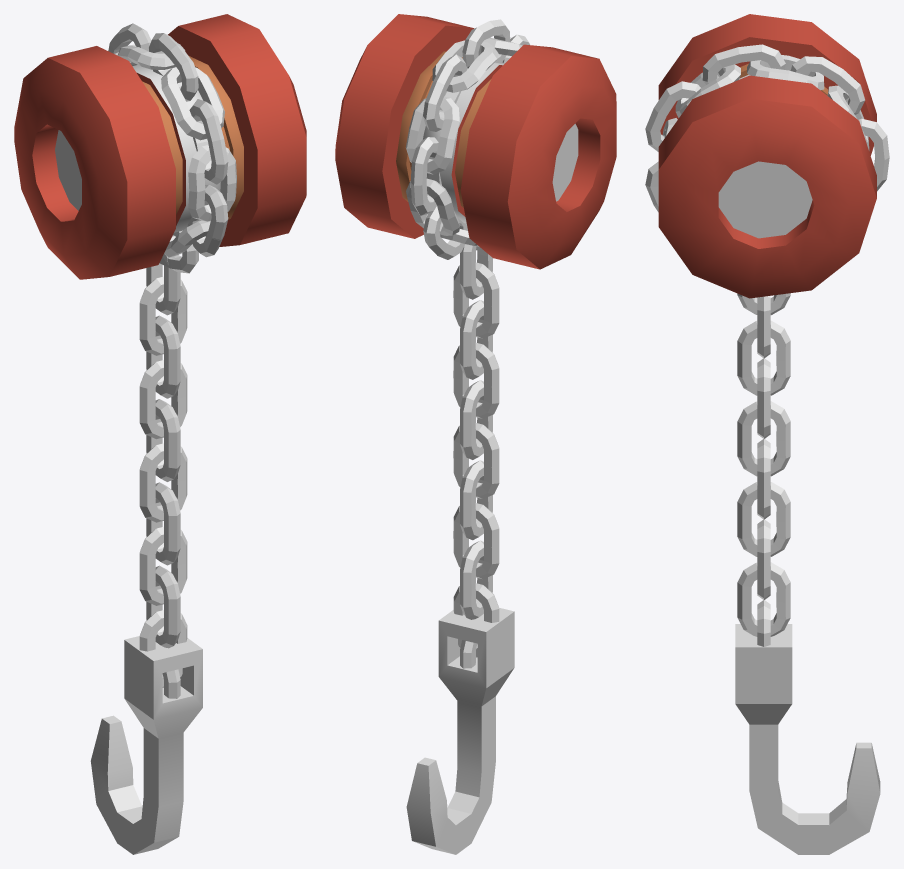
File: Polea_AssetsHarbor.fbx
The picture shows the model from 3 angles, left to right: view 1: azimuth 30°, elevation 25°; view 2: azimuth 150°, elevation 25°; view 3: azimuth 270°, elevation 25°; orthographic projection. The views are drawn at different scales.
Parts seen in each view (by area): view 1: Polea, chain.S, Hook.Chain, Chain; view 2: Polea, chain.S, Hook.Chain, Chain; view 3: Polea, chain.S, Hook.Chain, Chain.
Boxes of the visible parts, <box> form: Polea: <box>14,14,306,279</box>; chain.S: <box>139,254,187,698</box>; Hook.Chain: <box>90,636,202,854</box>; Chain: <box>108,23,236,273</box>; Polea: <box>335,14,616,269</box>; chain.S: <box>453,244,499,668</box>; Hook.Chain: <box>406,607,514,854</box>; Chain: <box>406,19,529,259</box>; Polea: <box>658,14,876,298</box>; chain.S: <box>737,293,790,646</box>; Hook.Chain: <box>735,624,880,854</box>; Chain: <box>645,44,889,212</box>.
Size of the model in its own units: 41.62 by 159 by 43.85.
